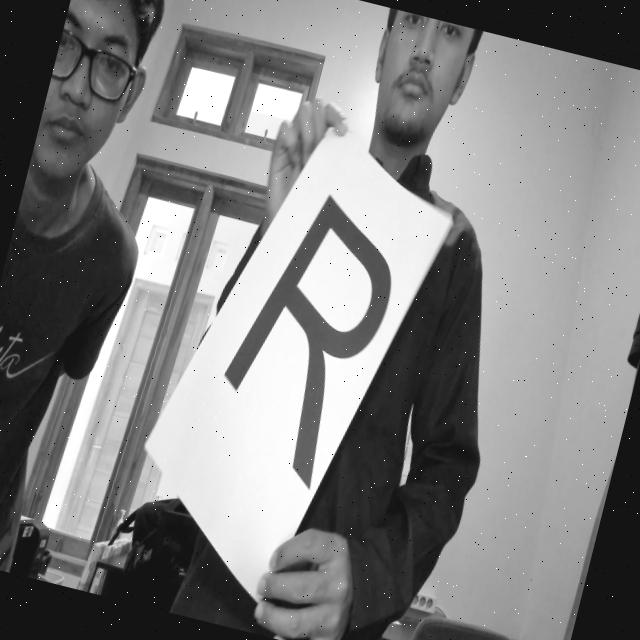r: (188, 144, 424, 516)
